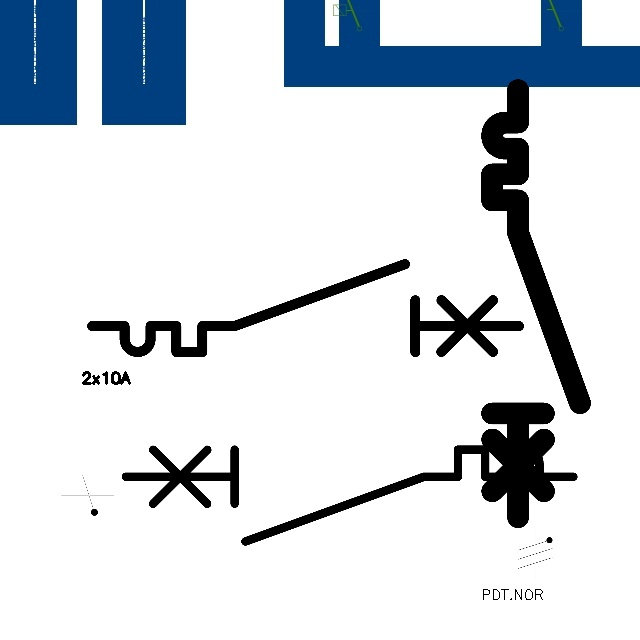interruptor_termomagnetico: (114, 438, 585, 553), (481, 79, 591, 528), (81, 253, 529, 363)
